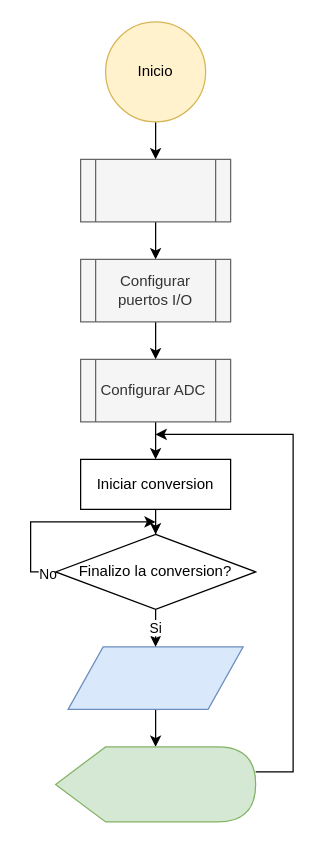
Some shapes in this 325 by 844 pixel diagram are drawn without their labels. The box of each missing label's shape, as (x1, y1, x2, y2) in pixels:
Inicializar stack: (79, 158, 231, 222)
Leer resultado de conversion: (67, 646, 243, 709)
Mostrar resultado en LEDs: (54, 746, 256, 822)
